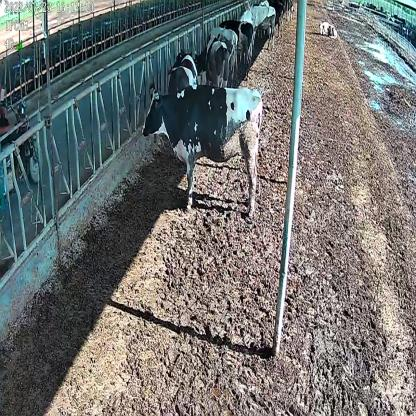cow: (142, 83, 262, 218), (194, 35, 230, 87), (168, 50, 198, 94), (319, 21, 339, 41)
